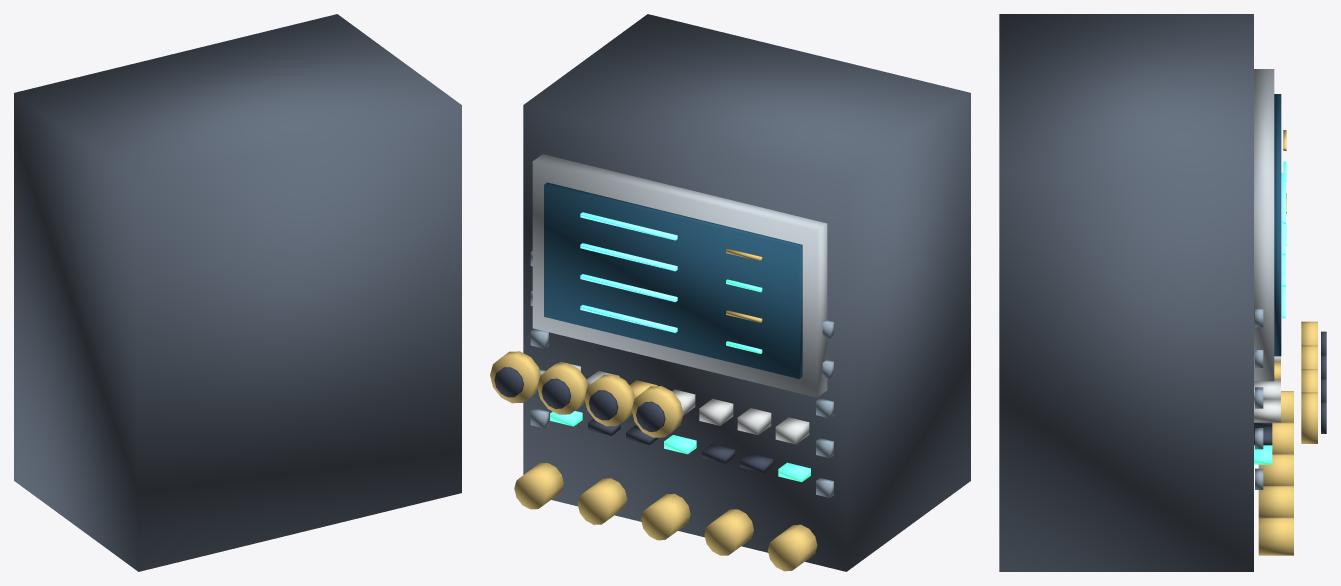
File: L86_58_RadiatorLeakTestController_Fitted.fbx
The picture shows the model from 3 angles, left to right: view 1: azimuth 30°, elevation 25°; view 2: azimuth 150°, elevation 25°; view 3: azimuth 270°, elevation 25°; orthographic projection. The views are drawn at different scales.
Parts seen in each view (by area): view 1: L86_RadiatorLeakTestController_Static__tint1F2633; view 2: L86_RadiatorLeakTestController_Static__tint1F2633, L86_RadiatorLeakTestController_Static__tint061D36, L86_RadiatorLeakTestController_Static__tintA1B2C2, L86_RadiatorLeakTestController_Static__tintF2B038, L86_RadiatorLeakTestController_Static__tint0F141F, L86_RadiatorLeakTestController_Static__tintD9E0E0, L86_RadiatorLeakTestController_Static__tint29D4F5, L86_RadiatorLeakTestController_Static__tint597591, L86_RadiatorLeakTestController_Static__tint1AE88F; view 3: L86_RadiatorLeakTestController_Static__tint1F2633, L86_RadiatorLeakTestController_Static__tintF2B038, L86_RadiatorLeakTestController_Static__tintA1B2C2, L86_RadiatorLeakTestController_Static__tint061D36, L86_RadiatorLeakTestController_Static__tintD9E0E0, L86_RadiatorLeakTestController_Static__tint0F141F, L86_RadiatorLeakTestController_Static__tint597591, L86_RadiatorLeakTestController_Static__tint29D4F5, L86_RadiatorLeakTestController_Static__tint1AE88F.
Part boxes in pixels (<box>): L86_RadiatorLeakTestController_Static__tint1F2633: <box>14,14,461,571</box>; L86_RadiatorLeakTestController_Static__tint1F2633: <box>523,14,970,571</box>; L86_RadiatorLeakTestController_Static__tint061D36: <box>544,182,802,378</box>; L86_RadiatorLeakTestController_Static__tintA1B2C2: <box>532,154,827,397</box>; L86_RadiatorLeakTestController_Static__tintF2B038: <box>490,248,817,571</box>; L86_RadiatorLeakTestController_Static__tint0F141F: <box>494,367,772,472</box>; L86_RadiatorLeakTestController_Static__tintD9E0E0: <box>558,361,809,444</box>; L86_RadiatorLeakTestController_Static__tint29D4F5: <box>580,212,677,332</box>; L86_RadiatorLeakTestController_Static__tint597591: <box>530,250,833,497</box>; L86_RadiatorLeakTestController_Static__tint1AE88F: <box>550,279,810,482</box>; L86_RadiatorLeakTestController_Static__tint1F2633: <box>999,14,1253,571</box>; L86_RadiatorLeakTestController_Static__tintF2B038: <box>1258,130,1317,555</box>; L86_RadiatorLeakTestController_Static__tintA1B2C2: <box>1254,69,1274,381</box>; L86_RadiatorLeakTestController_Static__tint061D36: <box>1274,94,1281,356</box>; L86_RadiatorLeakTestController_Static__tintD9E0E0: <box>1254,356,1280,422</box>; L86_RadiatorLeakTestController_Static__tint0F141F: <box>1254,331,1326,445</box>; L86_RadiatorLeakTestController_Static__tint597591: <box>1255,309,1263,489</box>; L86_RadiatorLeakTestController_Static__tint29D4F5: <box>1281,172,1285,318</box>; L86_RadiatorLeakTestController_Static__tint1AE88F: <box>1254,161,1286,464</box>.
Bounding box in the file's own units: 9.26 × 10.56 × 7.89.
